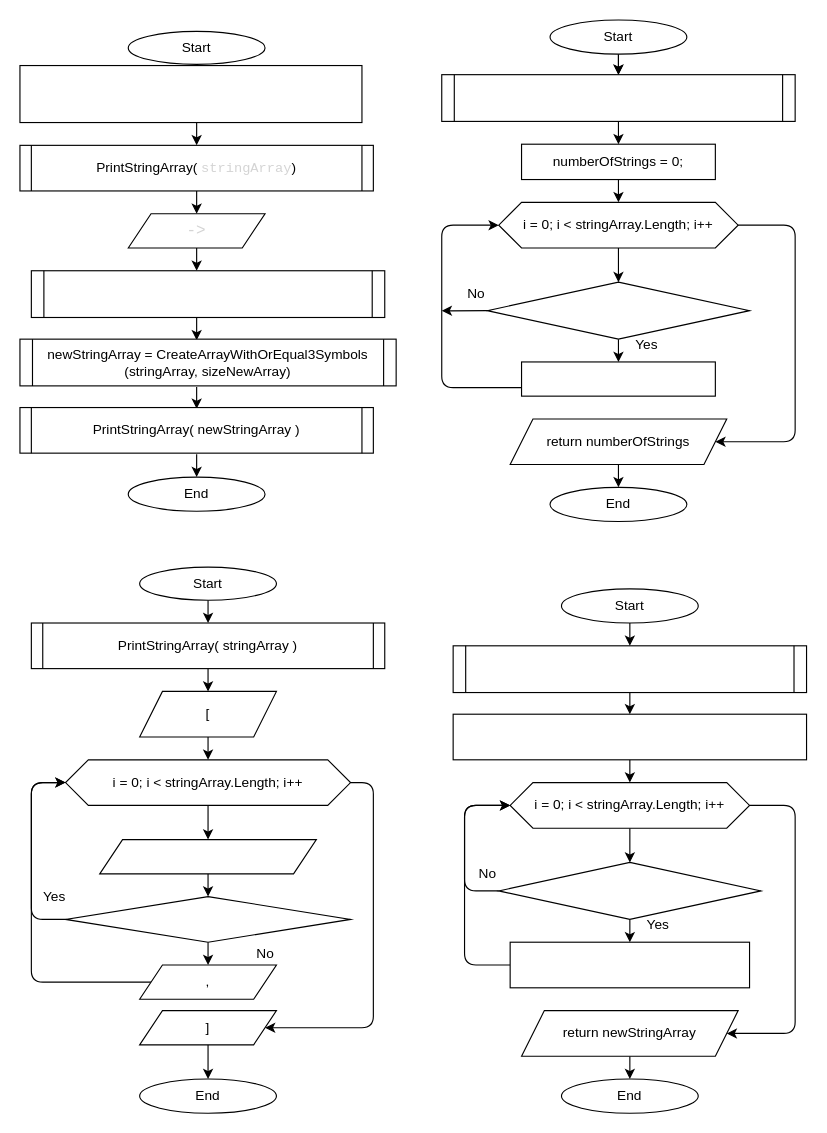
Image size: 827x1133. Some labels were removed from this diagram. The centre of each missing label's shape, as x and y in pixels:
"stringArray[ i ]": (207,856)
CreateArrayWithSizeLessOrEqual3 ( stringArray, sizeNewArray ): (629,669)
i == stringArray.Length - 1: (207,918)
newStringArray[ j ] = stringArray[ i ] j++: (629,964)
numberOfStrings++: (617,378)
SearchStringsWithOrEqual3Symbols( stringArray ): (618,97)
sizeNewArray = SearchStringsWithOrEqual3Symbols(stringArray): (207,293)
string[] newStringArray = new string [ sizeNewArray ] j = 0;: (629,736)
stringArray = ["Hello", "2", "world", ":-)"]: (190,93)
stringArray[ i ].Length <4: (629,890)
stringArray[i].Length <4: (618,310)
